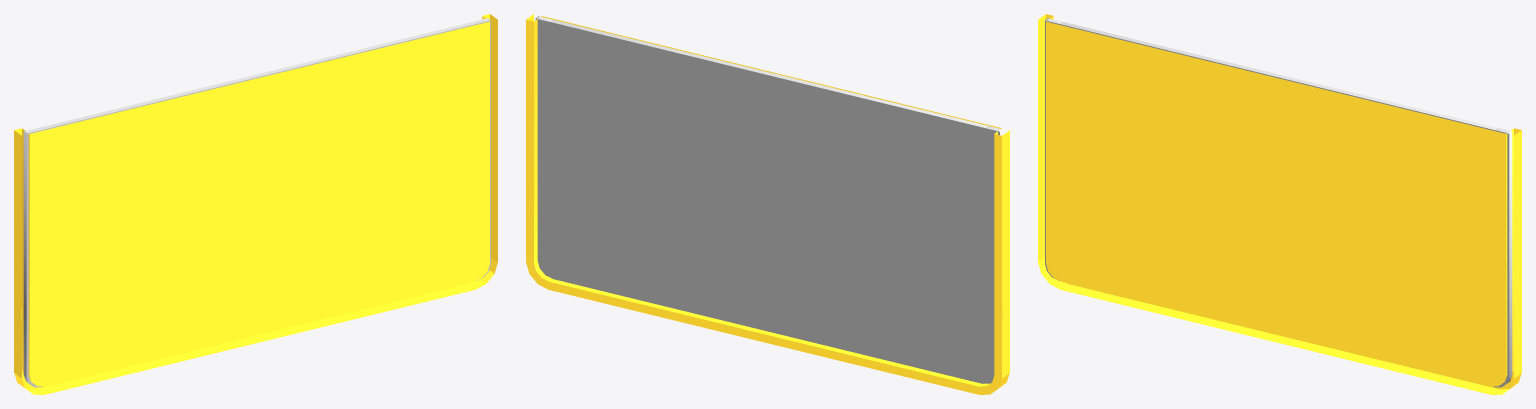
Rendered from details_bg.glb.
3 renders of one model, left to right at view 1: azimuth 30°, elevation 25°; view 2: azimuth 150°, elevation 25°; view 3: azimuth 330°, elevation 25°, orthographic.
Parts seen in each view (by area): view 1: title_plane.002, details_bg; view 2: details_bg, title_plane.002; view 3: title_plane.002, details_bg.
Boxes of the visible parts, <box> form: title_plane.002: <box>14,14,497,394</box>; details_bg: <box>23,18,490,387</box>; details_bg: <box>535,16,1002,383</box>; title_plane.002: <box>526,14,1009,394</box>; title_plane.002: <box>1038,14,1521,394</box>; details_bg: <box>1045,18,1512,387</box>.
Size of the model in its own units: 1.65 by 0.8784 by 0.0469.
2 materials, 1 textured.
